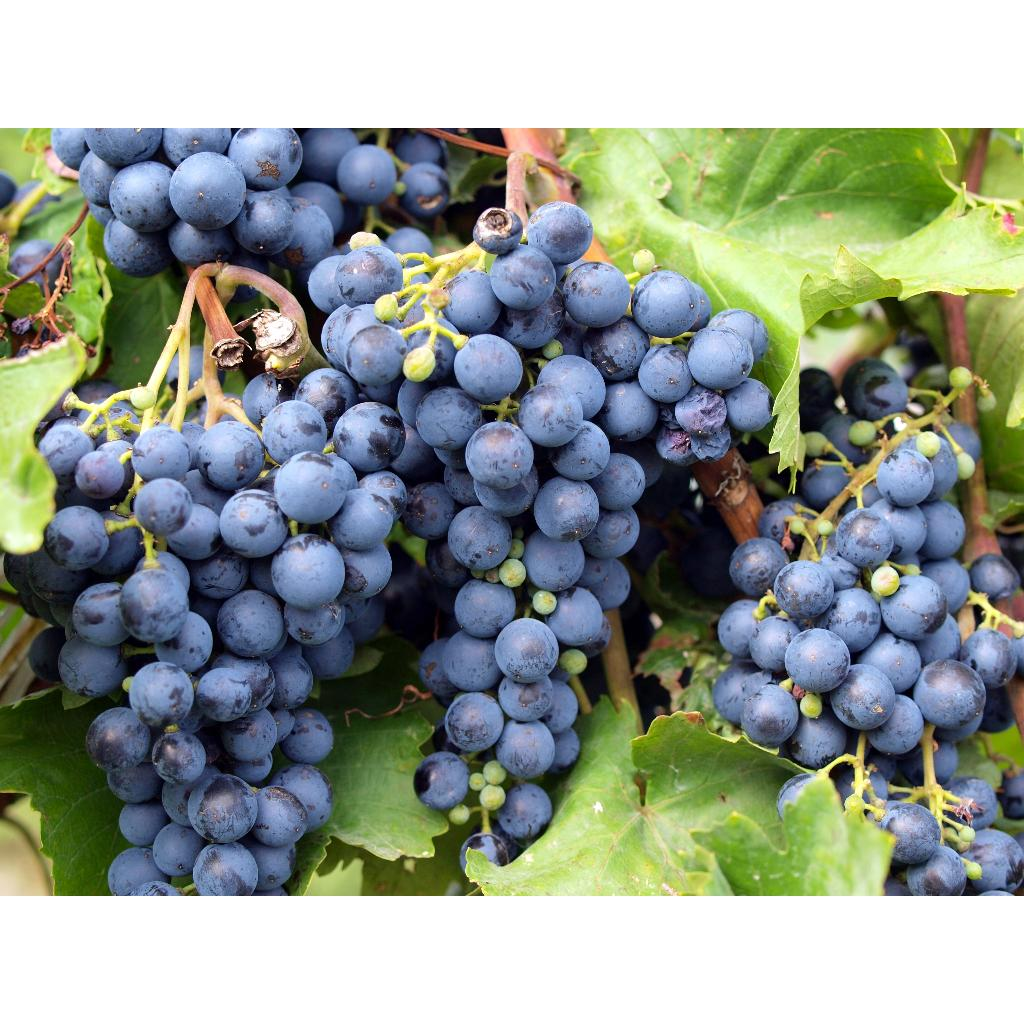grape: (304, 173, 769, 866), (22, 400, 384, 894), (712, 359, 1023, 894), (52, 128, 302, 256), (381, 519, 431, 591)
